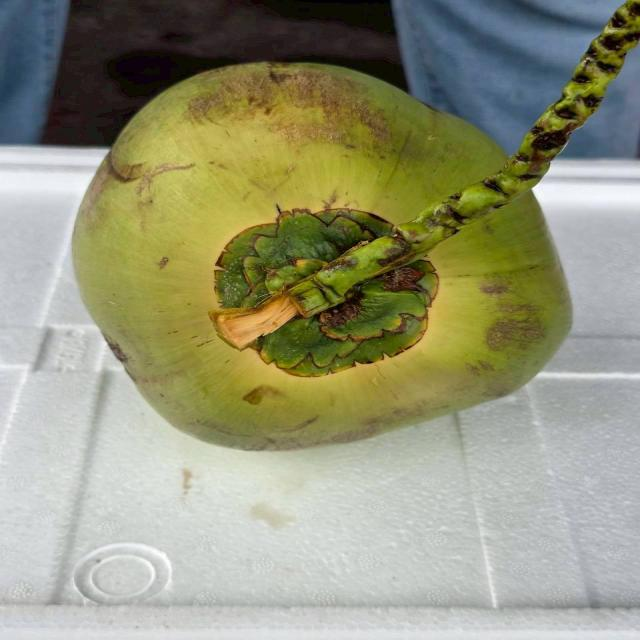coco_1.5: (159, 175, 478, 410)
